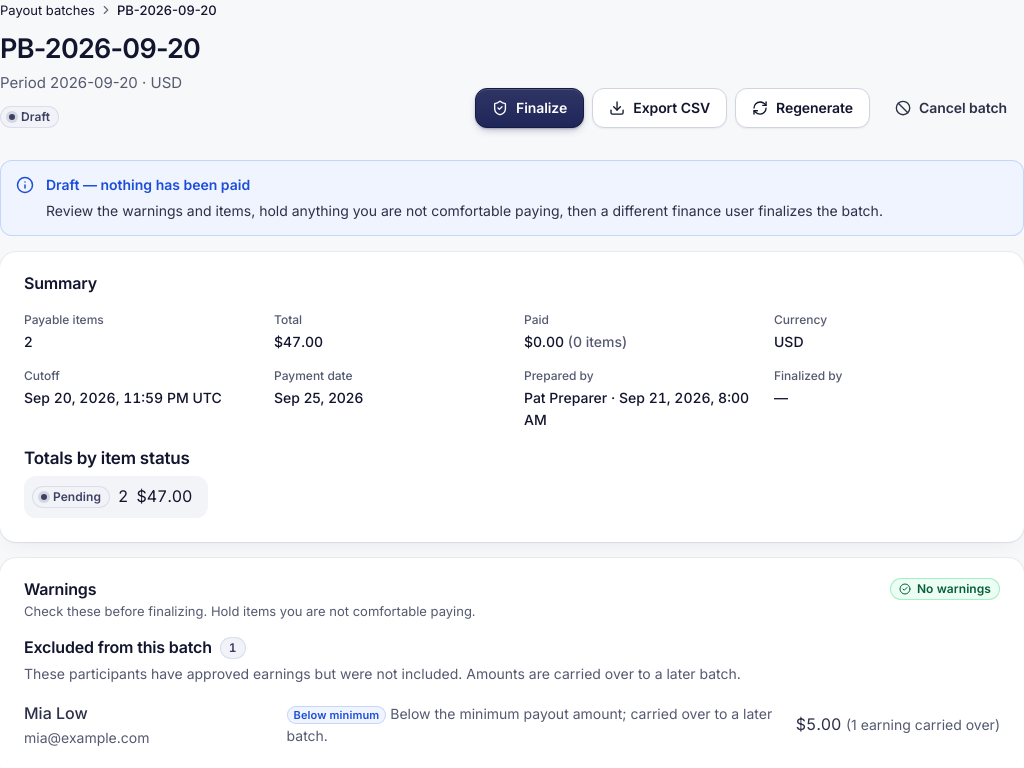
BatchReviewPage — finalize › shows a refresh action on a stale concurrency stamp
This screenshot has width=1024, height=768.
Click the button "Finalize".
click(530, 108)  # box left=475, top=88, right=584, bottom=128
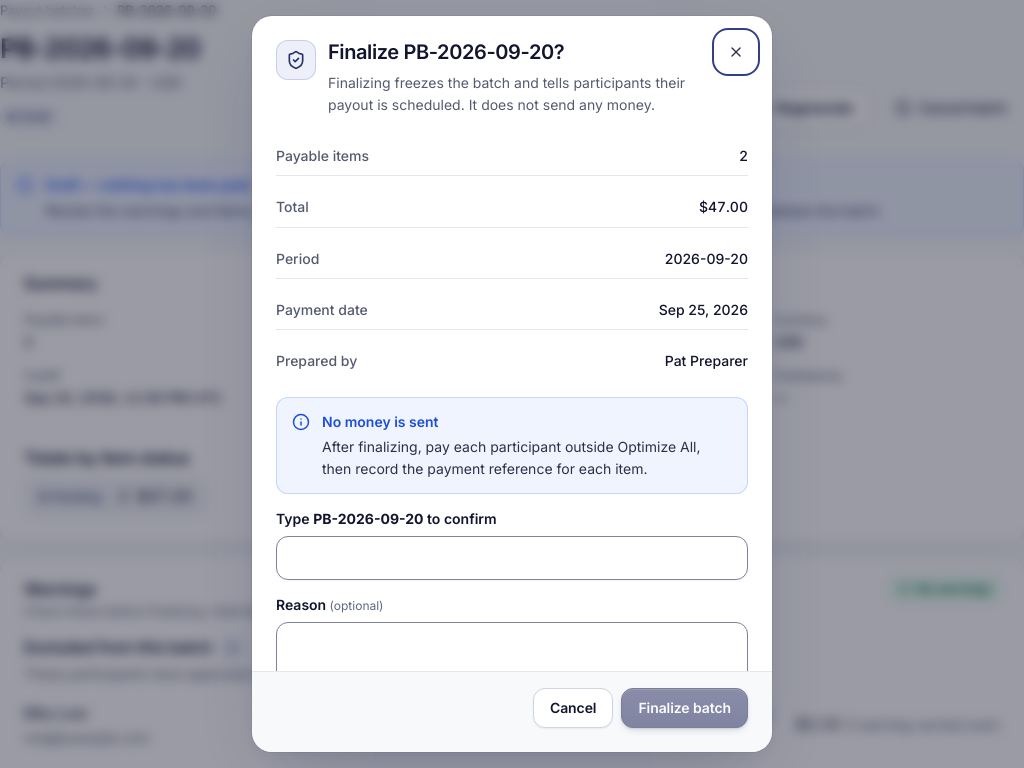
Type "PB-2026-09-20" into the field labelled "Type PB-2026-09-20 to confirm".
click(512, 558); type("PB-2026-09-20")  # box left=276, top=536, right=748, bottom=580
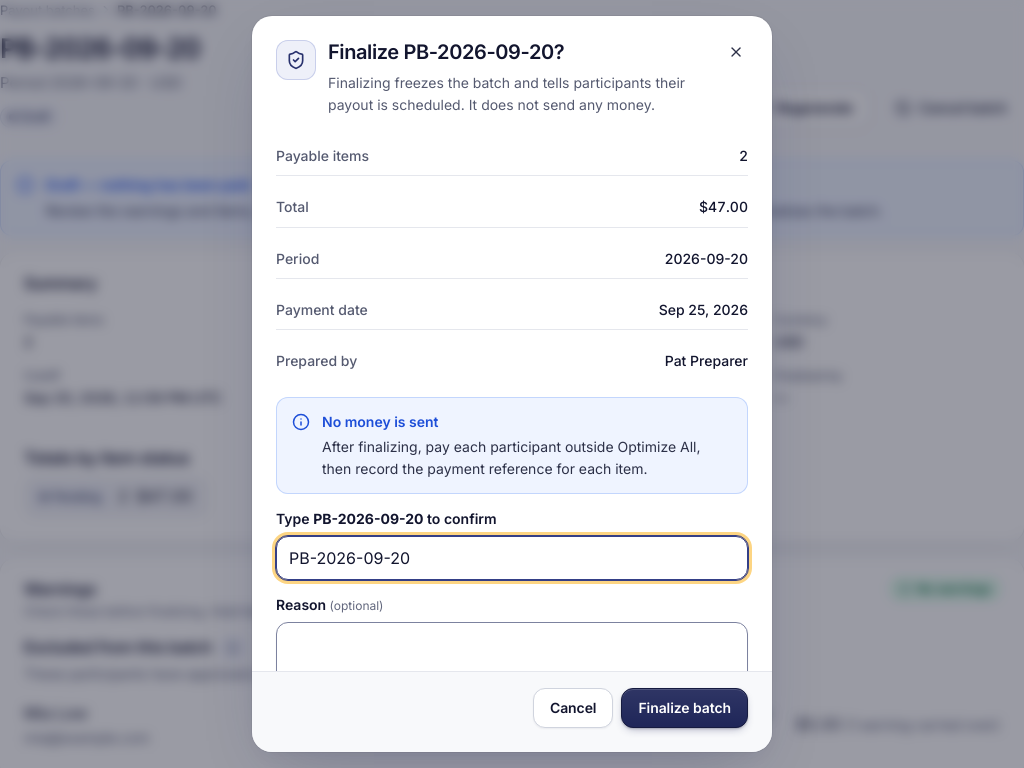
Click the button "Finalize batch".
click(685, 708)  # box left=621, top=688, right=748, bottom=728
(page scrolled)
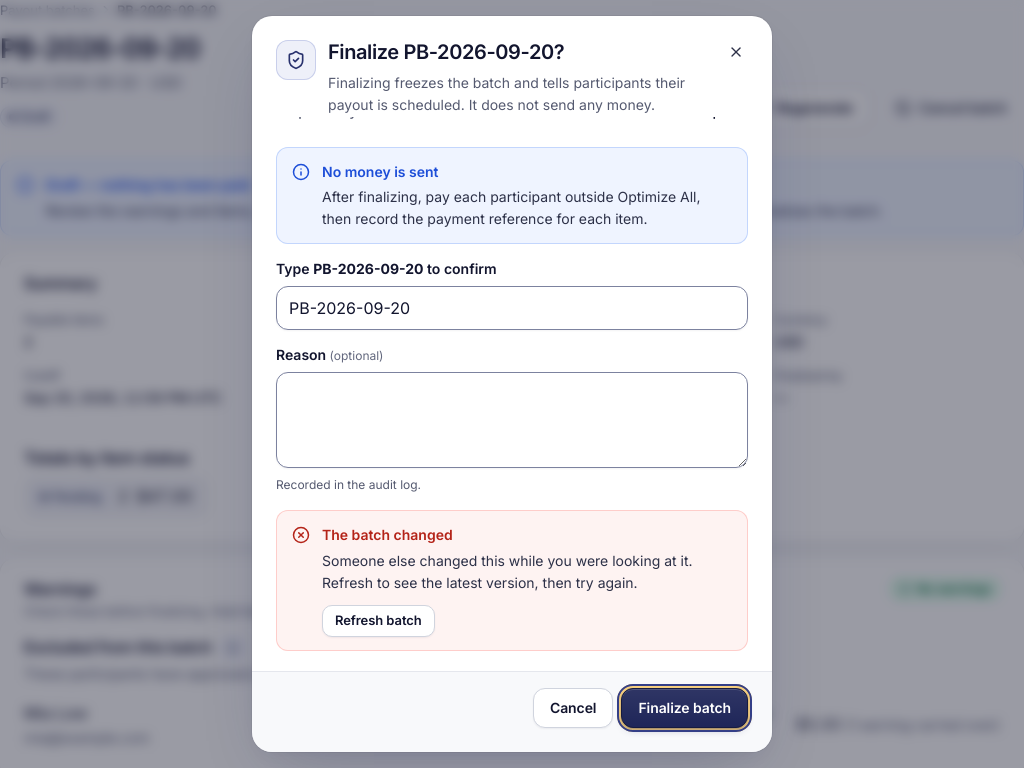
Now the text "The batch changed" is shown, box left=322, top=526, right=453, bottom=543
Now the button "Refresh batch" is shown, box left=322, top=605, right=435, bottom=637
